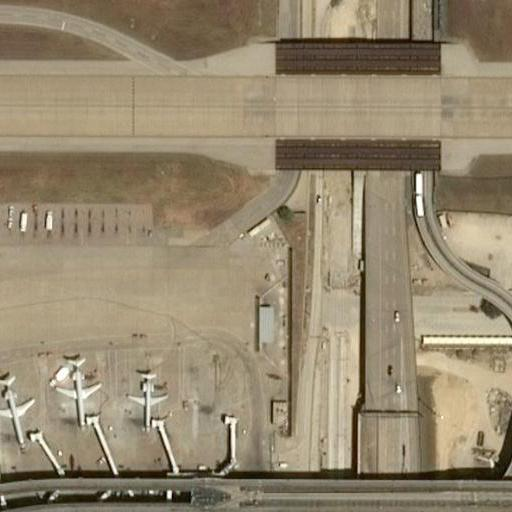Aircraft: (57, 361, 101, 426), (0, 371, 38, 440), (126, 366, 166, 423)
